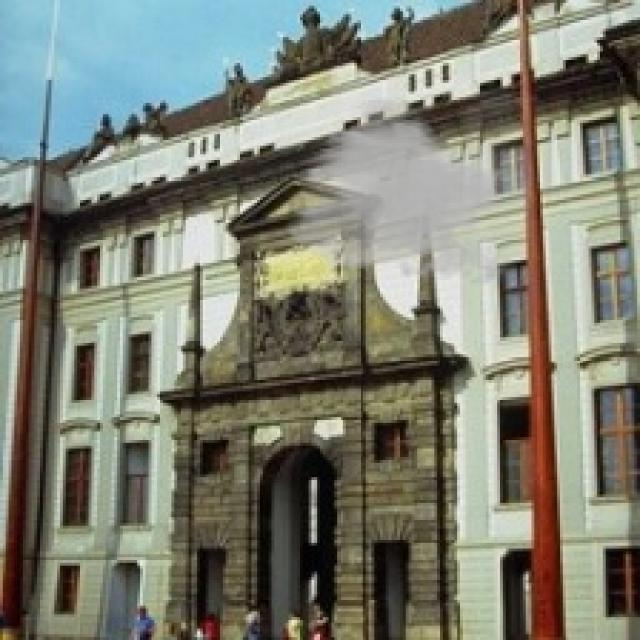smoke: (283, 91, 531, 292)
